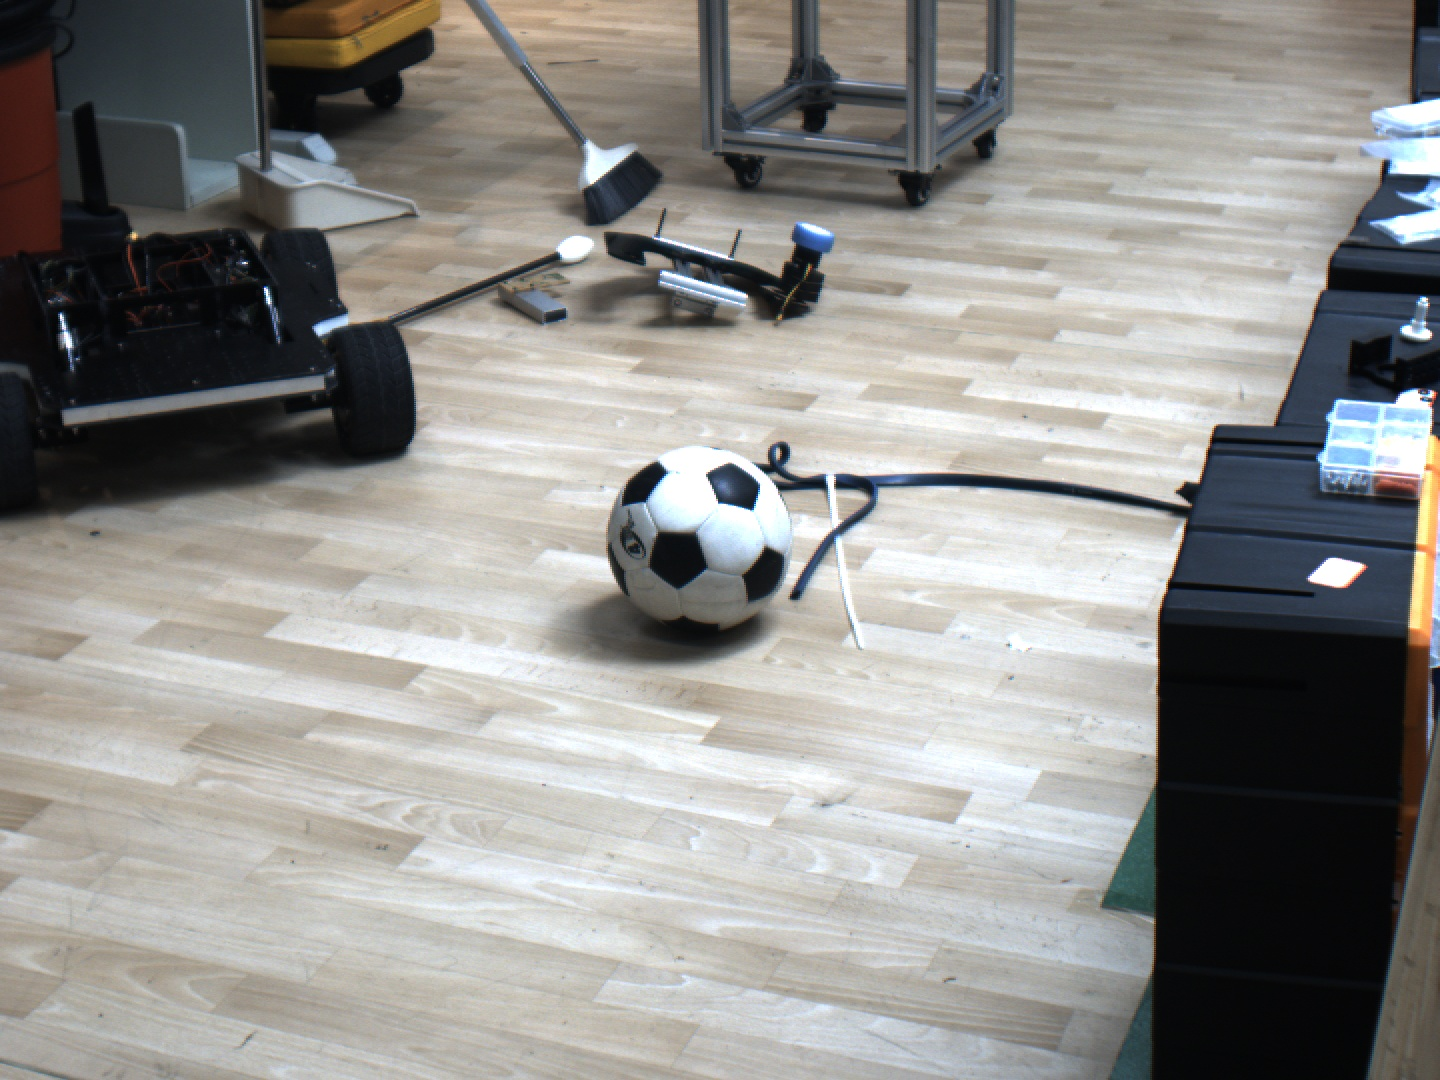ball: (590, 439, 808, 642)
